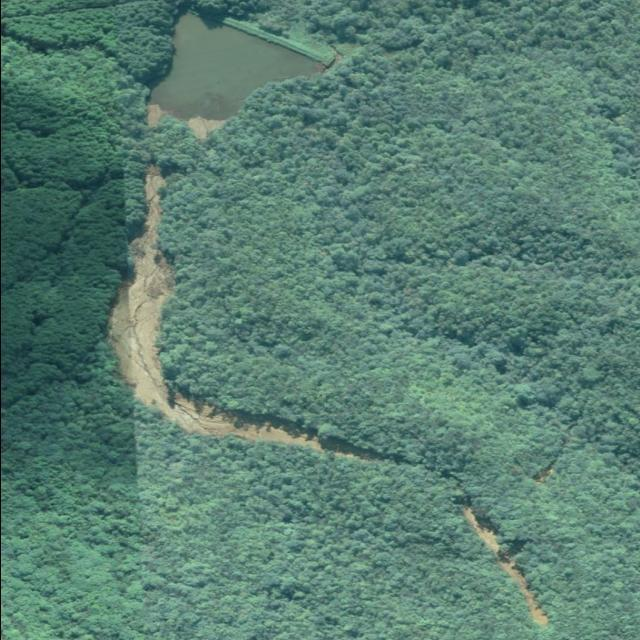landslide: (106, 165, 324, 452)
